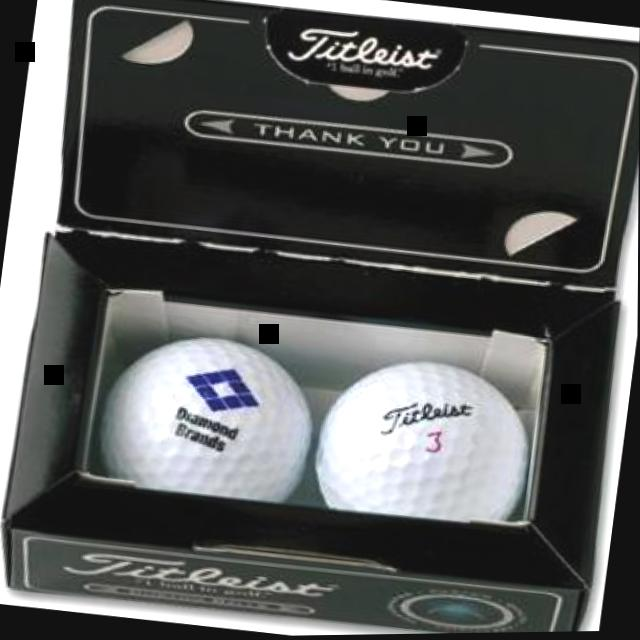golf ball: (300, 339, 549, 550), (84, 317, 323, 527)
